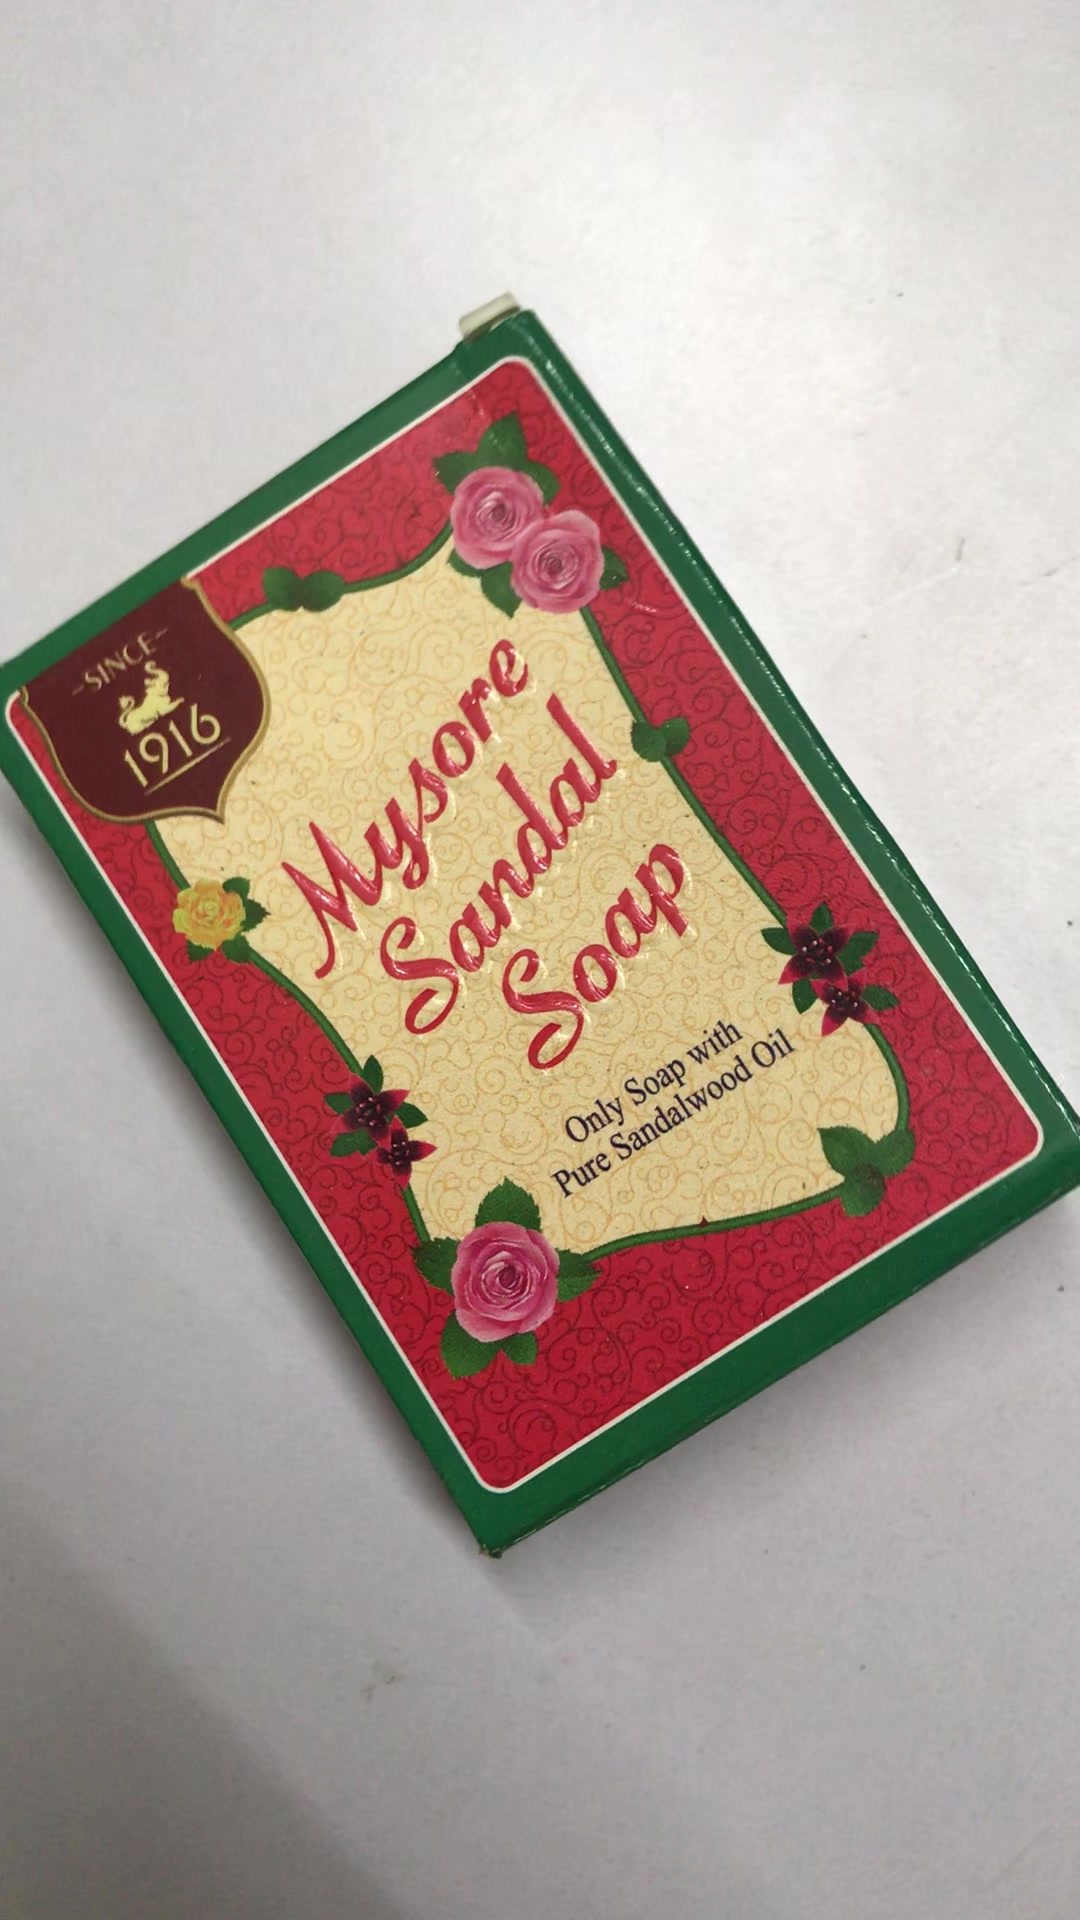mysore sandal soap: (1, 327, 1080, 1557)
